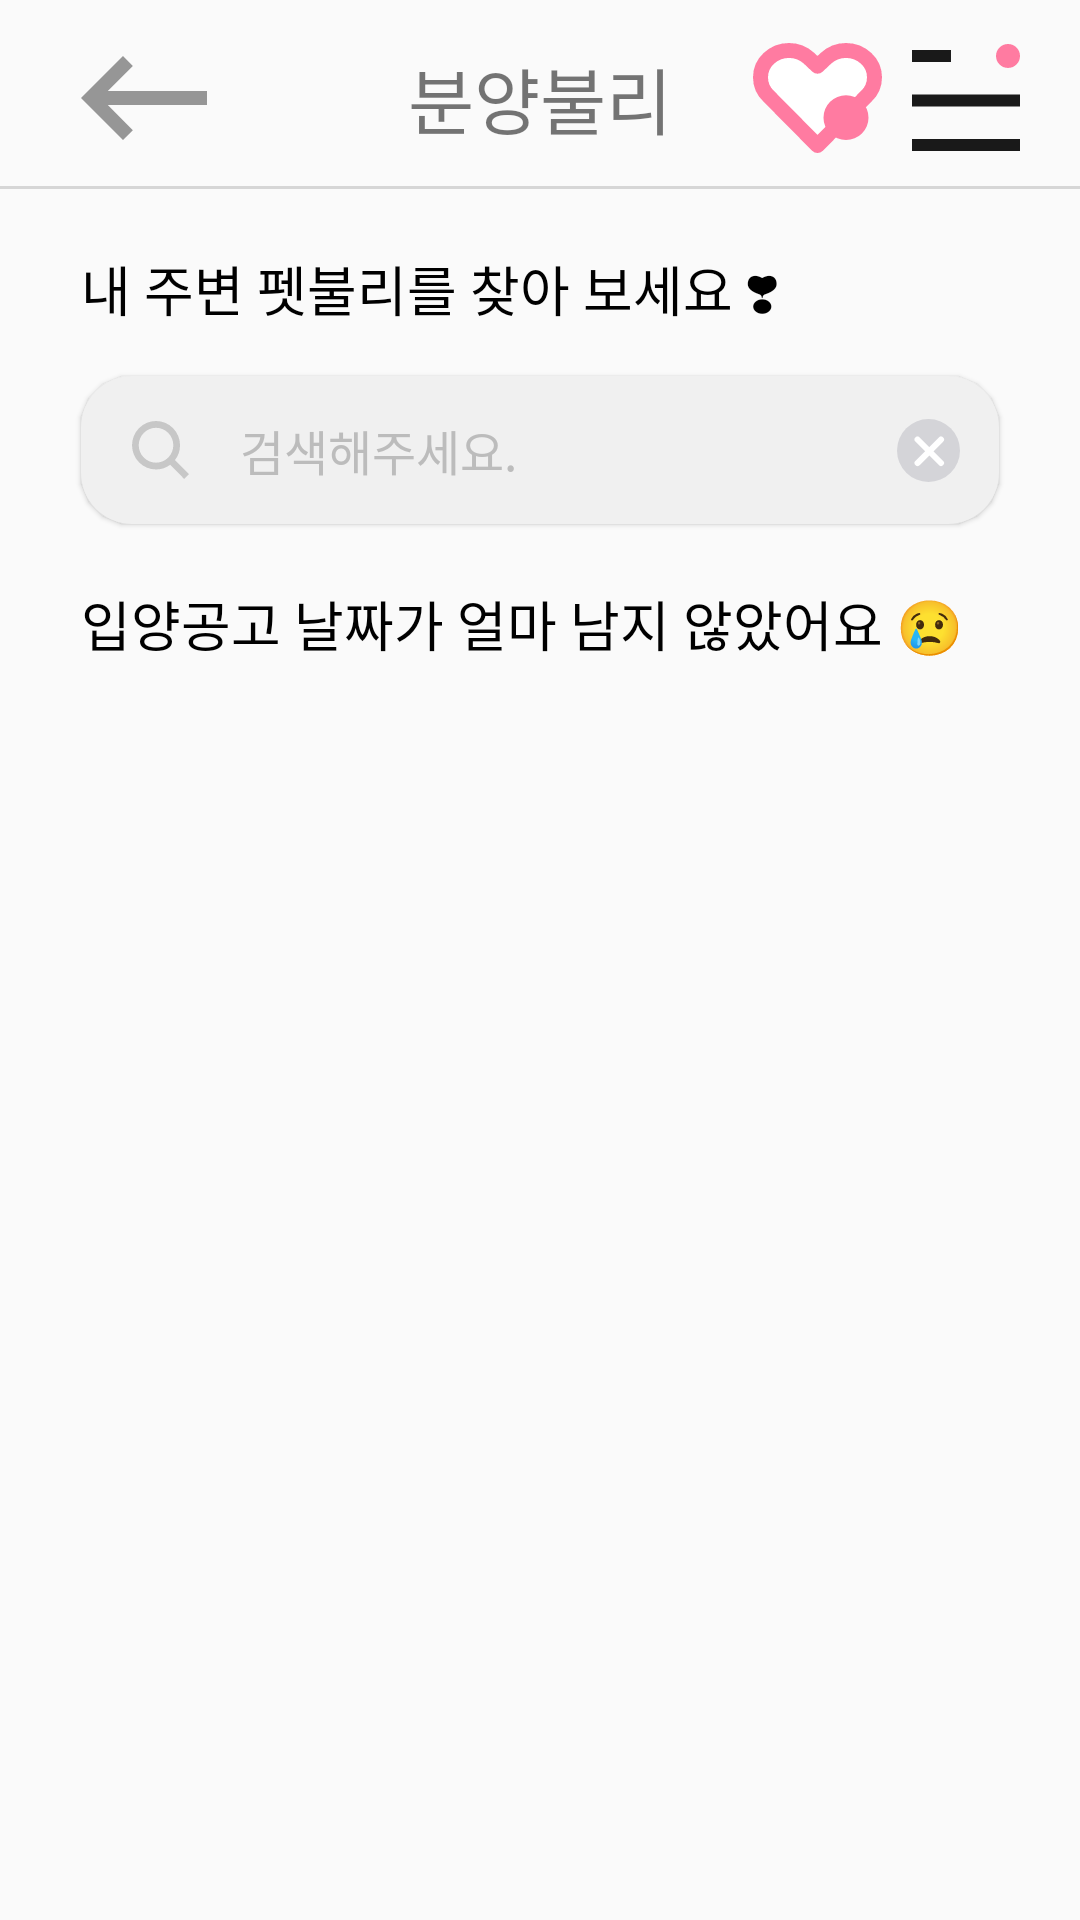

Named icons in this screenshot (1080x1920) and their centers, (x,y):
back: (144,98)
cancel: (928,450)
empty heart: (817,98)
menu: (966,97)
search: (160,450)
